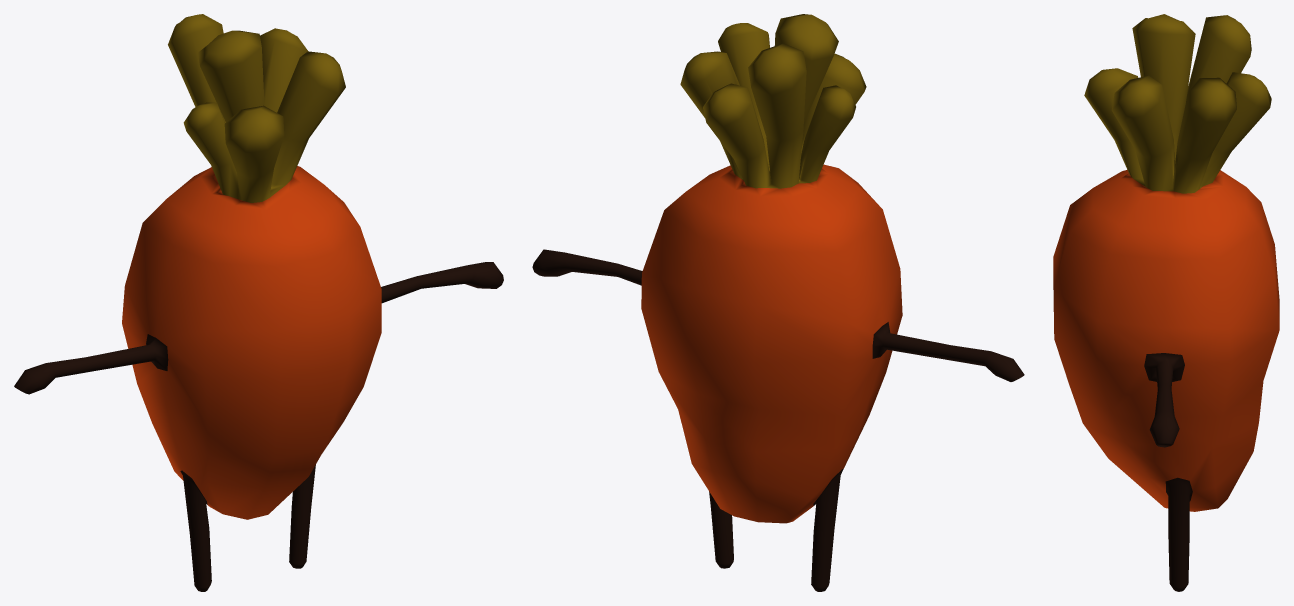
The model's file is Carrot_LOW.fbx.
3 views of the same model, side by side, from view 1: azimuth 30°, elevation 25°; view 2: azimuth 150°, elevation 25°; view 3: azimuth 270°, elevation 25° (orthographic). The views are drawn at different scales.
Visible parts, largest first — view 1: Carrot_geo; view 2: Carrot_geo; view 3: Carrot_geo.
Boxes of the visible parts, x1,y1,x2,y2 form: Carrot_geo: (14, 14, 503, 591); Carrot_geo: (532, 14, 1024, 591); Carrot_geo: (1053, 14, 1279, 591).
Size of the model in its own units: 3.18 by 3.47 by 1.32.
